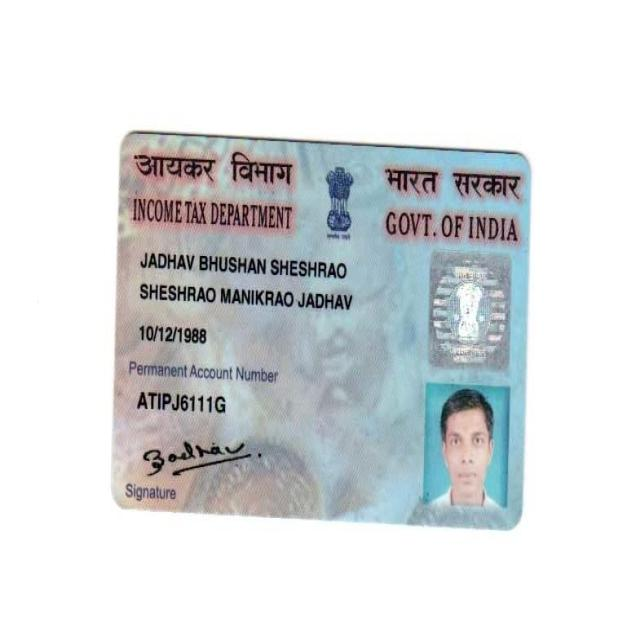pan_card: (113, 134, 527, 526)
